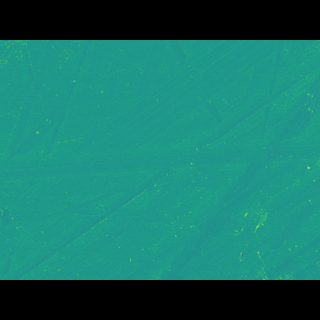Loch: (0, 69, 285, 219), (0, 138, 320, 175), (239, 190, 280, 215)
